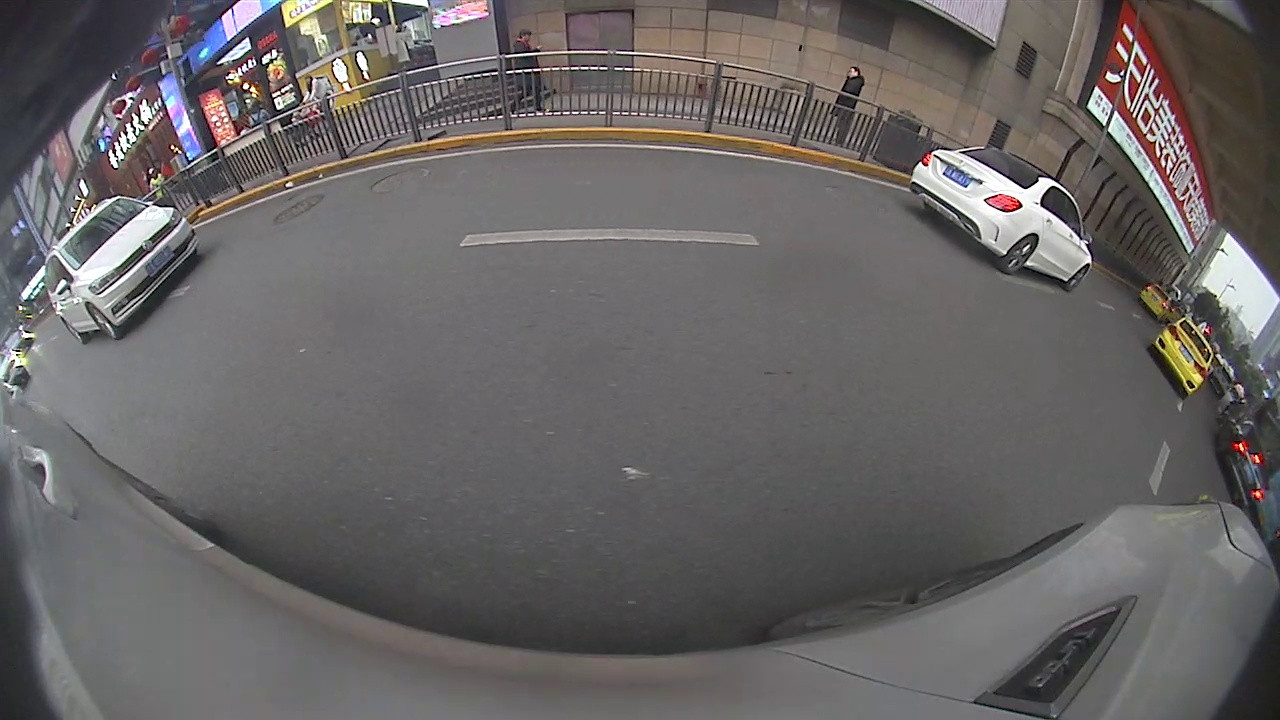car: (909, 145, 1094, 289), (41, 196, 203, 342), (1145, 314, 1217, 399), (1213, 418, 1271, 506)
front: (87, 304, 118, 344), (1065, 263, 1091, 292)
person: (503, 27, 548, 117), (827, 66, 867, 148)
rear: (1000, 234, 1040, 274), (63, 318, 85, 346)
